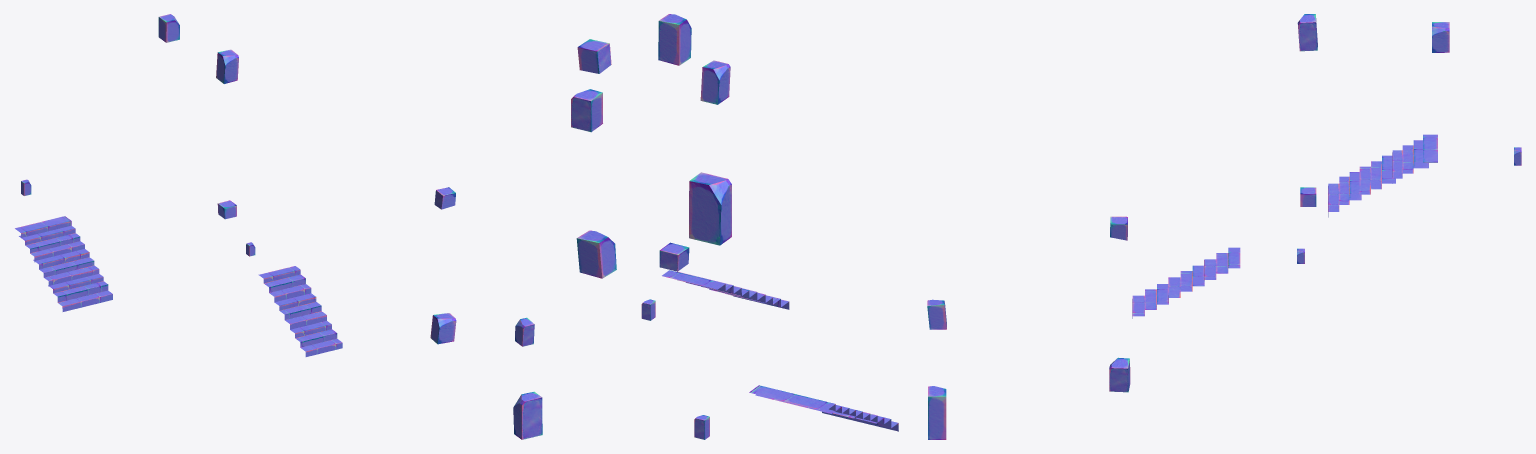
Rendered from Forest_building_056_14.fbx.
3 views of the same model, side by side, from view 1: azimuth 30°, elevation 25°; view 2: azimuth 150°, elevation 25°; view 3: azimuth 270°, elevation 25° (orthographic). The views are drawn at different scales.
Parts seen in each view (by area): view 1: Forest_building_056_14; view 2: Forest_building_056_14; view 3: Forest_building_056_14.
Boxes of the visible parts, x1,y1,x2,y2 form: Forest_building_056_14: (15,14,542,439); Forest_building_056_14: (571,14,898,439); Forest_building_056_14: (927,14,1521,439).
Bounding box in the file's own units: 1689 × 1569 × 2492.
